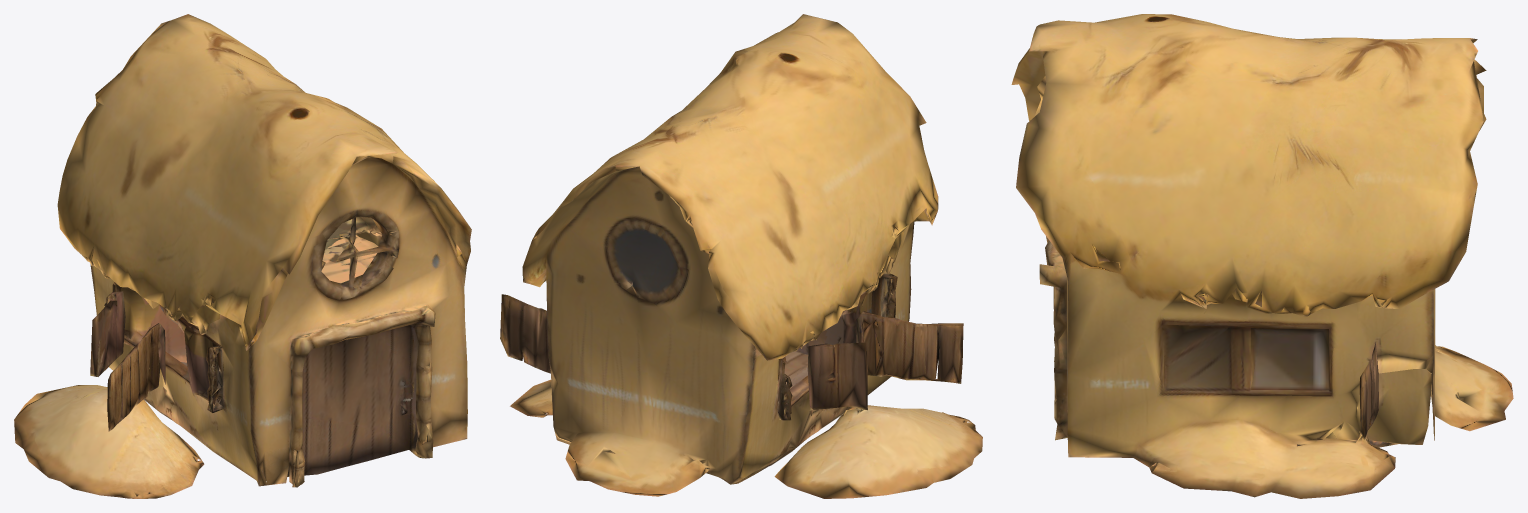
File: casa_paja.glb
3 views of the same model, side by side, from view 1: azimuth 30°, elevation 25°; view 2: azimuth 150°, elevation 25°; view 3: azimuth 270°, elevation 25° (orthographic). The views are drawn at different scales.
Bounding box in the file's own units: 1.82 × 1.42 × 1.69.
Materials: 1 (1 with a texture image).
